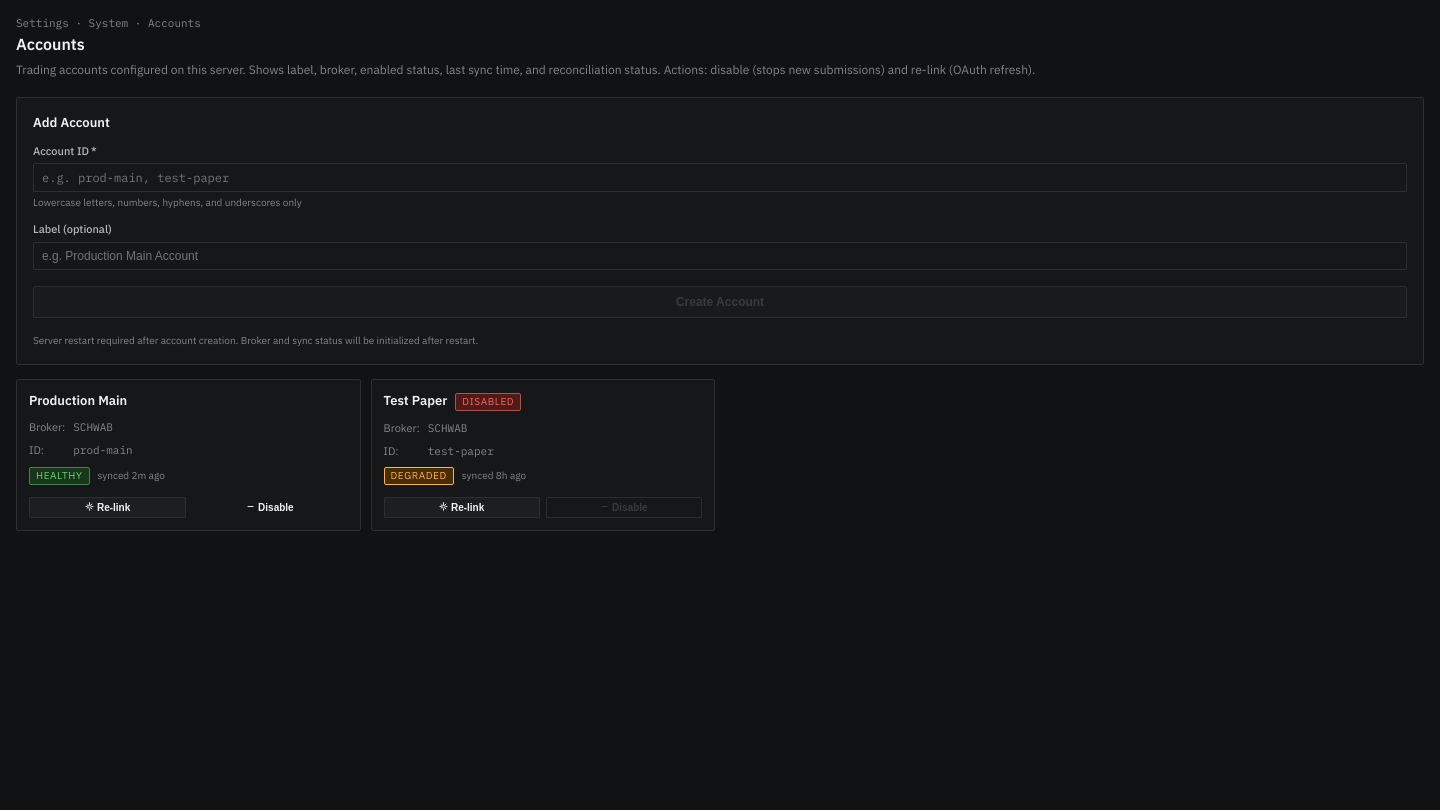
it: AccountsScreen › AddAccountForm › validates slug format client-side
Expected: the text "Add Account" is shown, [33,114,110,131]
// Try with invalid characters (uppercase, spaces)
Type "Invalid ID" into the field with placeholder "e.g. prod-main, test-paper" at (720,178), box [33,163,1407,192]
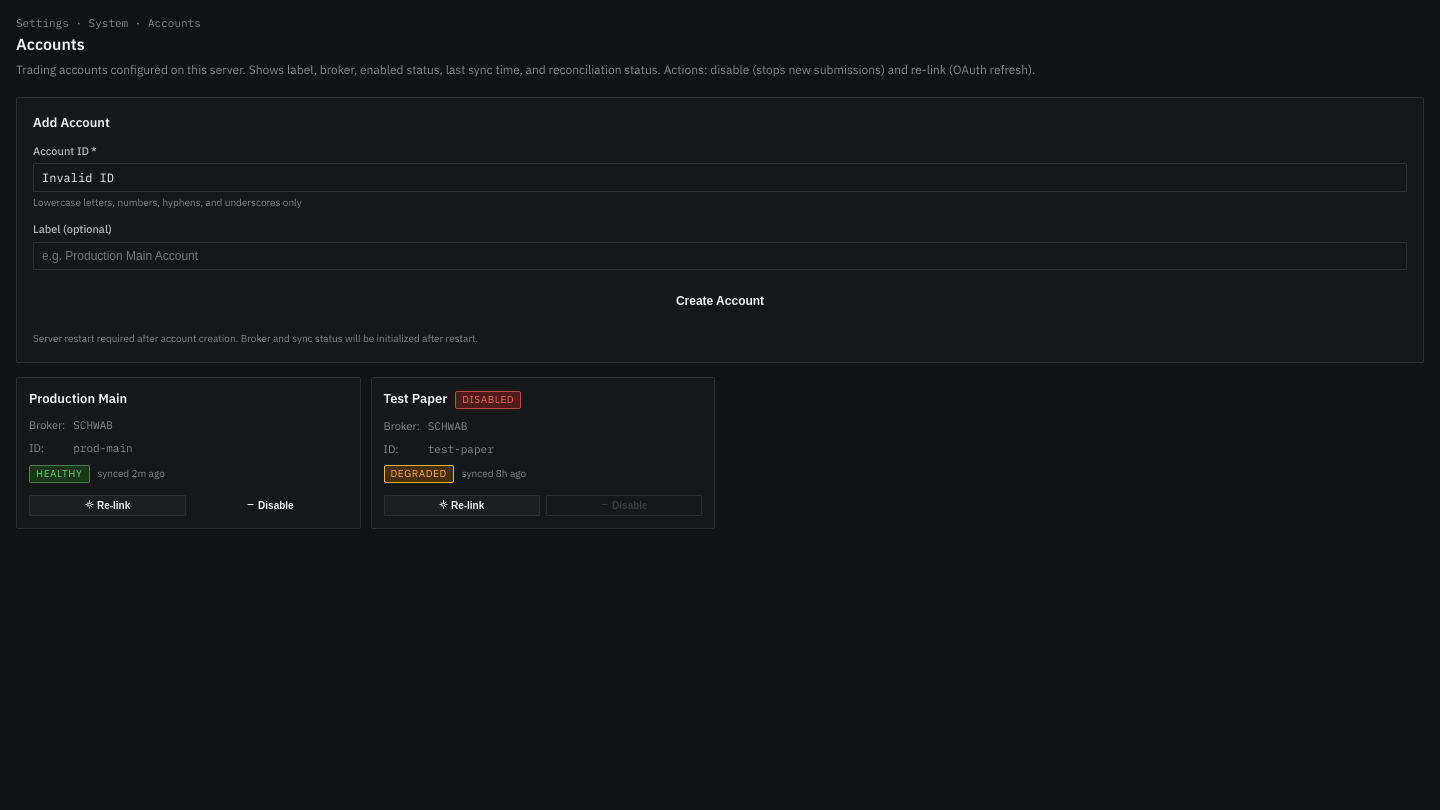
Click the button "Create Account" at (720,300), box [33,286,1407,316]
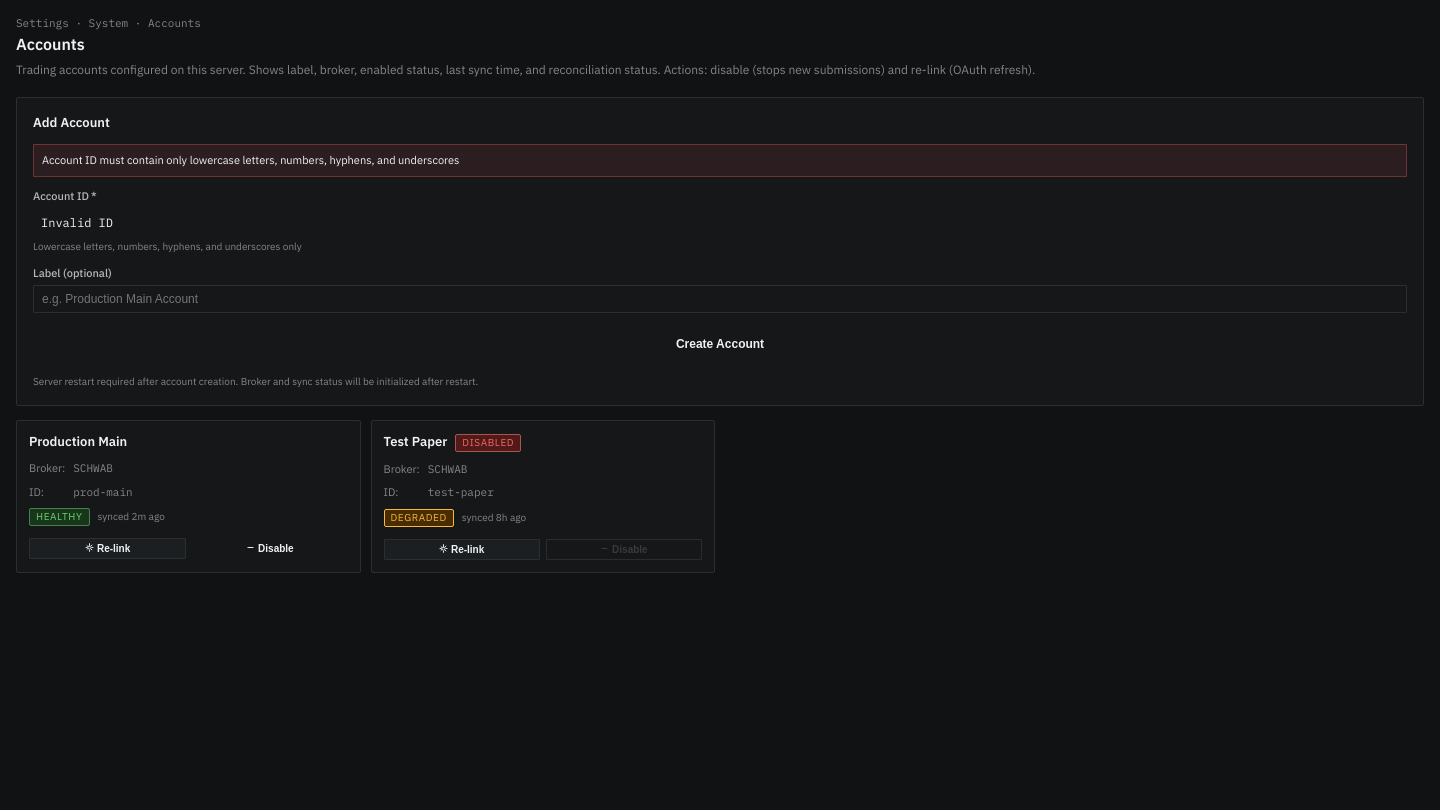
Expected: the text "lowercase letters, numbers, hyphens, and underscores" is shown, [42,153,459,167]
